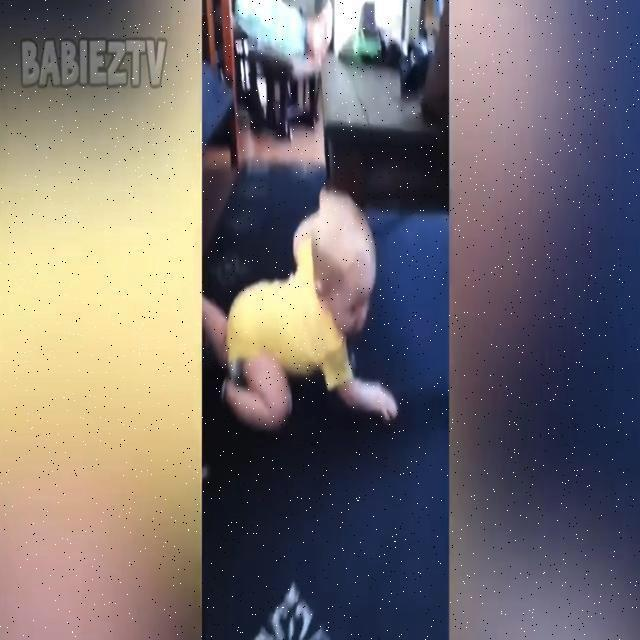child: (201, 192, 398, 434)
